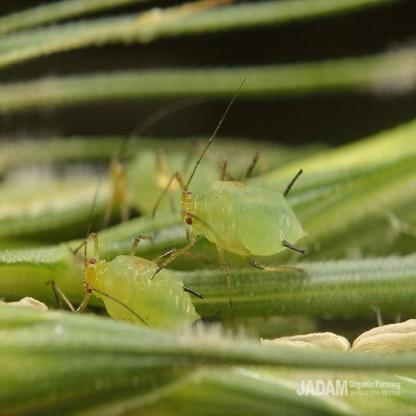aphid: (69, 215, 198, 357), (173, 158, 305, 286), (98, 132, 181, 220)
